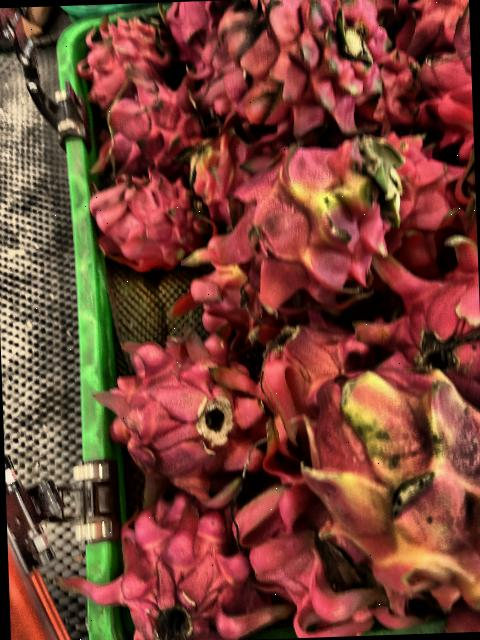buah-naga-belum-matang: (296, 357, 480, 614), (217, 144, 403, 308)
buah-naga-matang: (96, 330, 271, 504), (233, 464, 405, 640), (166, 0, 390, 130), (99, 493, 276, 640), (362, 236, 480, 396), (84, 167, 216, 269), (90, 71, 212, 179), (382, 126, 470, 275), (245, 305, 362, 417), (81, 16, 177, 94), (422, 15, 474, 156), (401, 0, 470, 56)
